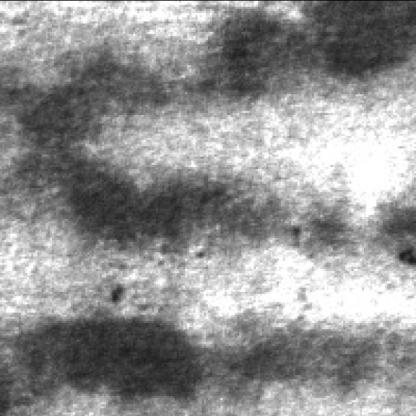patches: (41, 152, 284, 252), (206, 4, 416, 100), (17, 318, 208, 410), (8, 62, 168, 148), (231, 322, 387, 406), (372, 198, 416, 274)
